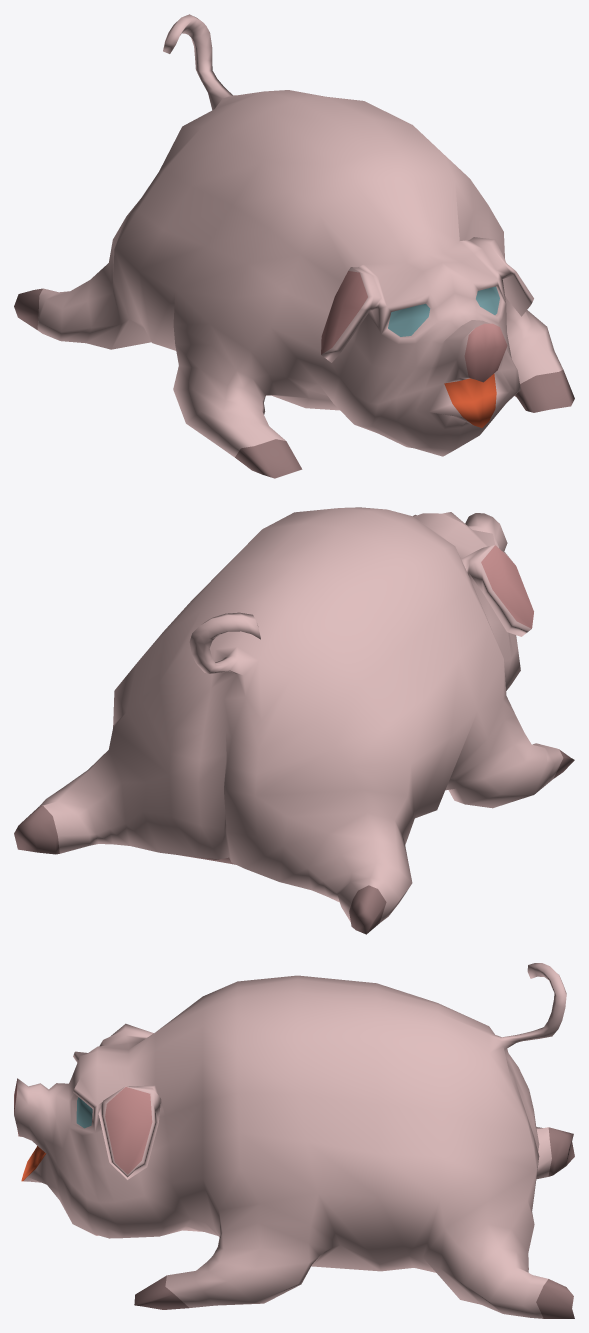
Rendered from Piggy.fbx.
The picture shows the model from 3 angles, top to bottom: view 1: azimuth 30°, elevation 25°; view 2: azimuth 150°, elevation 25°; view 3: azimuth 270°, elevation 25°; orthographic projection. The views are drawn at different scales.
Parts seen in each view (by area): view 1: Piggy; view 2: Piggy; view 3: Piggy.
Part boxes in pixels (<box>): Piggy: <box>14,14,574,478</box>; Piggy: <box>14,507,574,934</box>; Piggy: <box>14,963,574,1318</box>.
Bounding box in the file's own units: 115 × 85.93 × 162.
